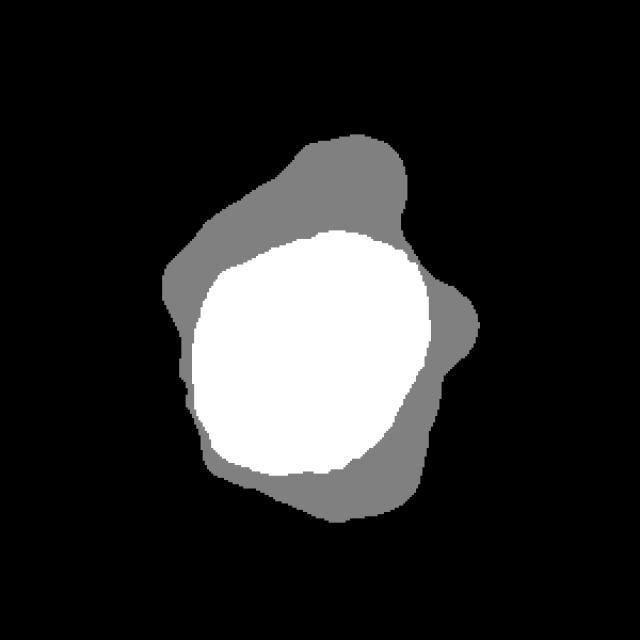WBC: (143, 121, 493, 554)
